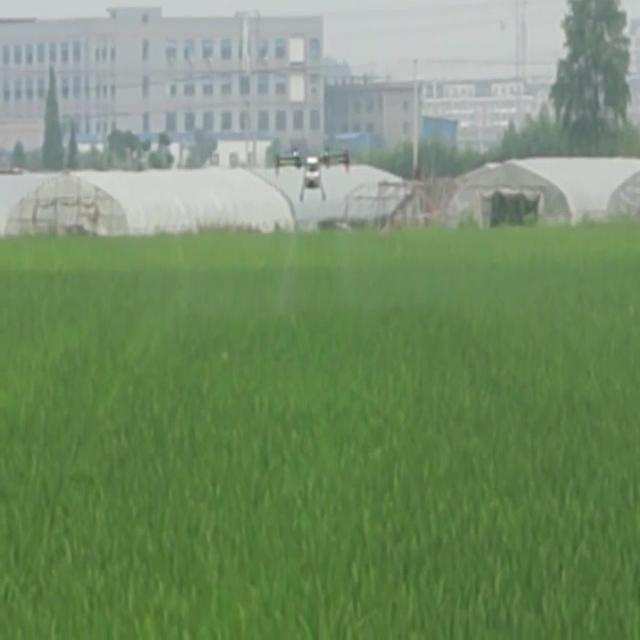UAV: (276, 146, 350, 202)
